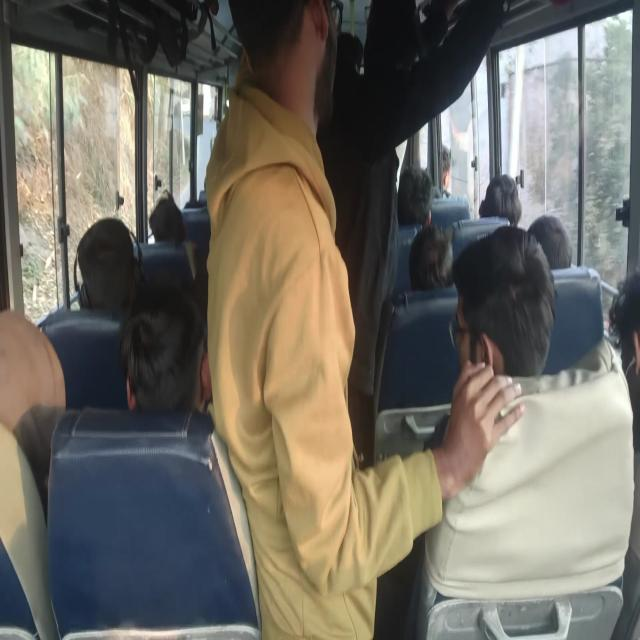person: (235, 12, 345, 164), (0, 310, 69, 545), (129, 299, 212, 415), (470, 251, 538, 387), (71, 220, 144, 319), (372, 8, 437, 102), (608, 260, 640, 411), (469, 176, 518, 222), (407, 232, 443, 294), (529, 224, 573, 268), (153, 189, 187, 244), (338, 33, 370, 89), (430, 145, 450, 195), (399, 162, 415, 203)
